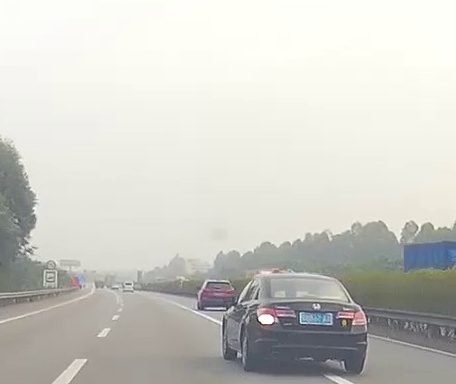L_light: (256, 304, 296, 324), (201, 288, 211, 295)
R_light: (335, 308, 367, 326), (227, 289, 235, 295)
T_light: (295, 277, 309, 279), (214, 281, 222, 284)
day-left: (247, 272, 368, 374)
day-no: (199, 280, 237, 311)
